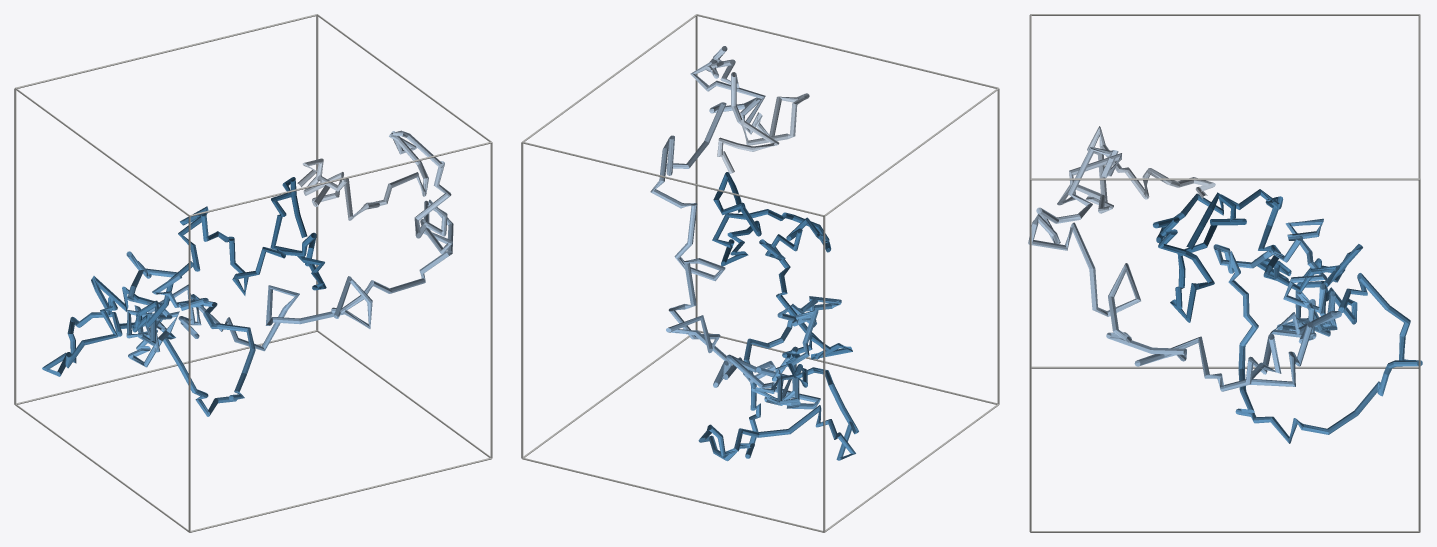
3 renders of one model, left to right at view 1: azimuth 30°, elevation 25°; view 2: azimuth 150°, elevation 25°; view 3: azimuth 270°, elevation 25°, orthographic. The views are drawn at different scales.
Parts seen in each view (by area): view 1: geometry_0, geometry_1; view 2: geometry_0, geometry_1; view 3: geometry_0, geometry_1.
Boxes of the visible parts, <box> form: geometry_0: <box>42,130,453,416</box>; geometry_1: <box>14,14,492,532</box>; geometry_0: <box>650,46,858,461</box>; geometry_1: <box>521,14,999,532</box>; geometry_0: <box>1028,126,1422,443</box>; geometry_1: <box>1029,14,1420,532</box>.
Bounding box in the file's own units: 0.3037 × 0.3044 × 0.3042.
